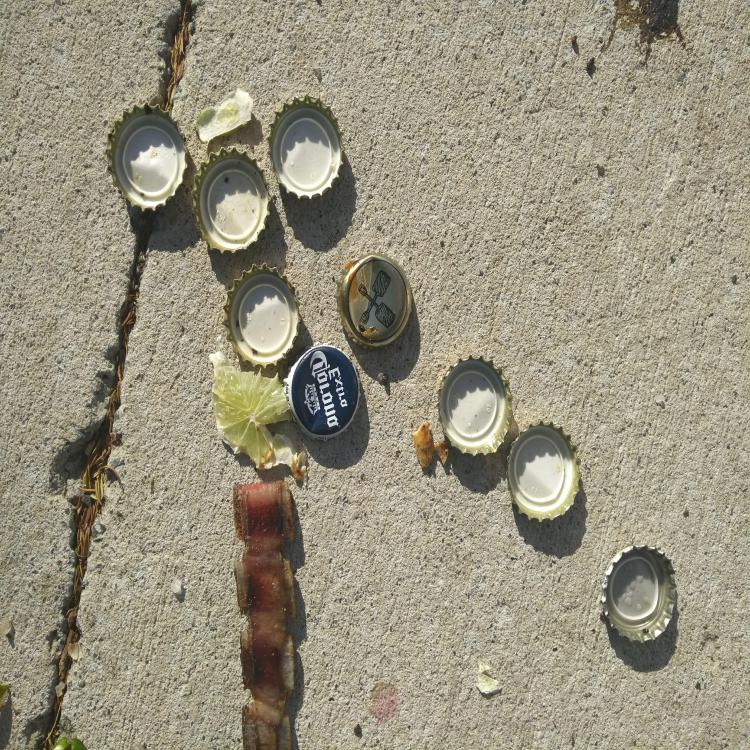Metal bottle cap: (107, 101, 188, 213), (192, 148, 272, 254), (266, 94, 344, 200), (224, 264, 300, 368), (284, 342, 361, 442), (437, 354, 513, 455), (506, 420, 581, 522), (334, 253, 412, 351), (601, 545, 676, 643)
